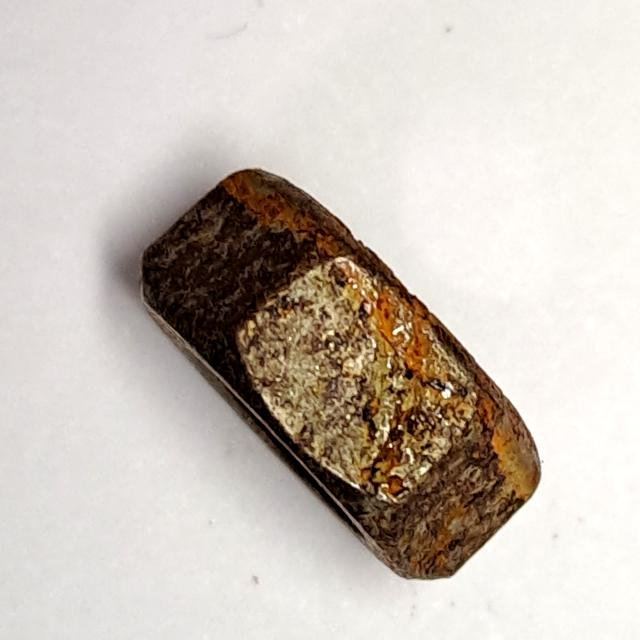Side_Rust: (126, 158, 555, 595)
